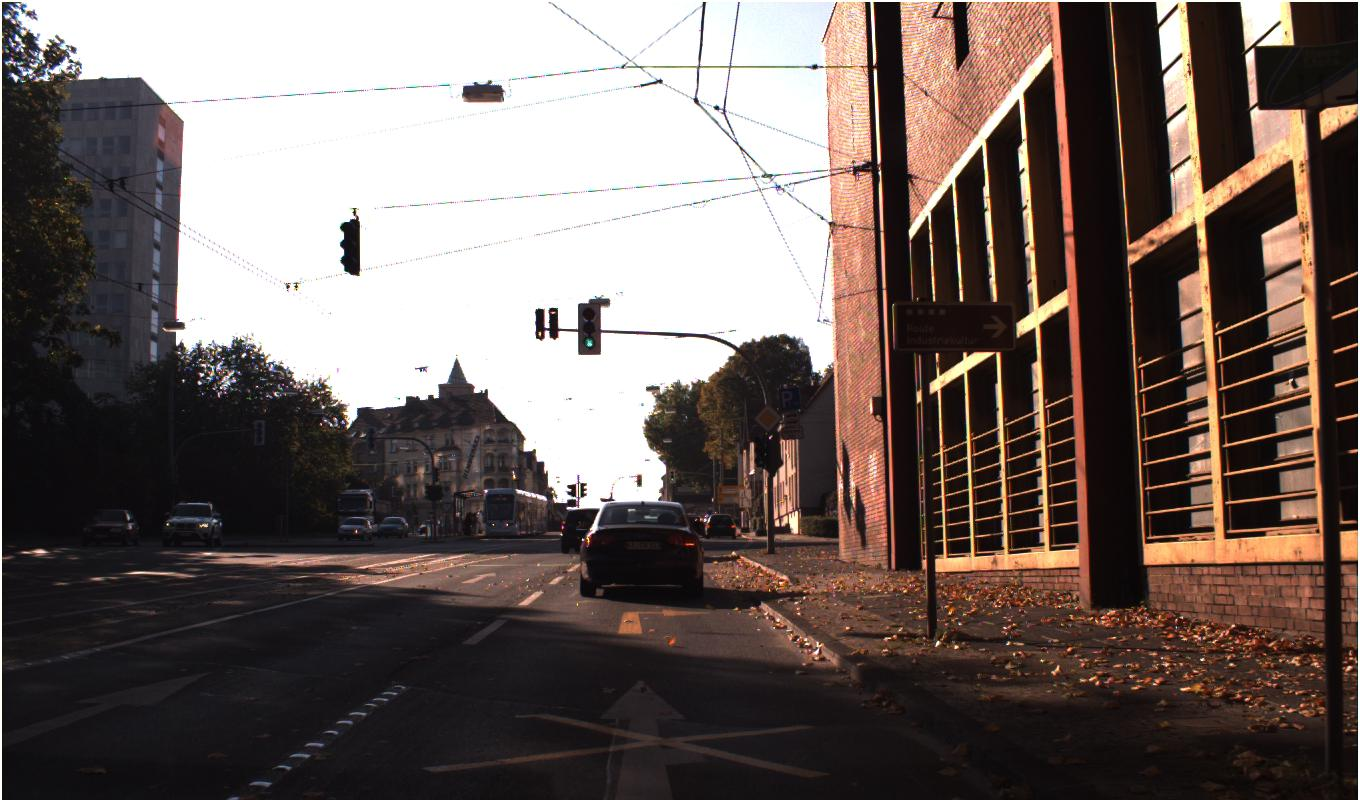sign: (752, 403, 782, 433)
